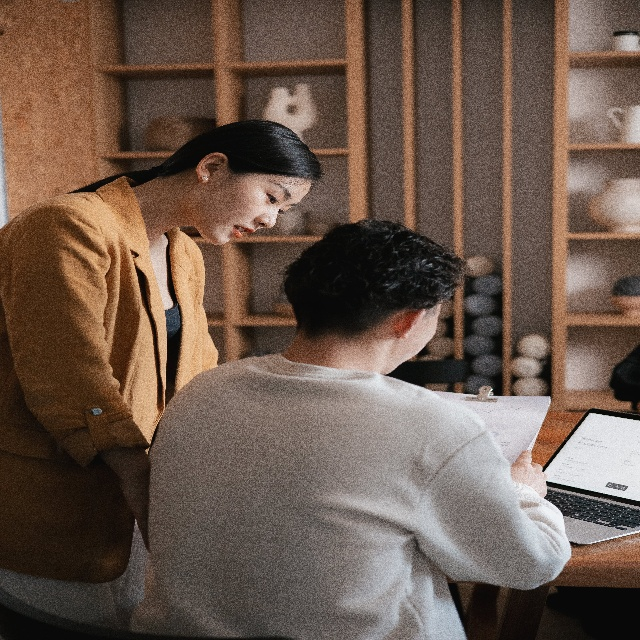Sin_guantes: (509, 448, 548, 497)
